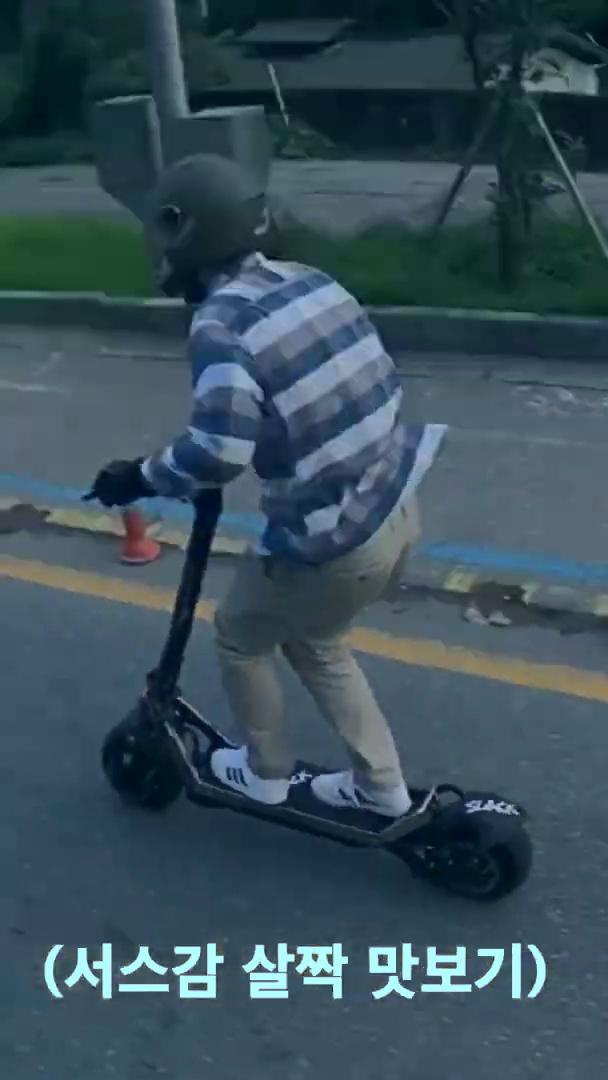helmet: (79, 151, 539, 902)
